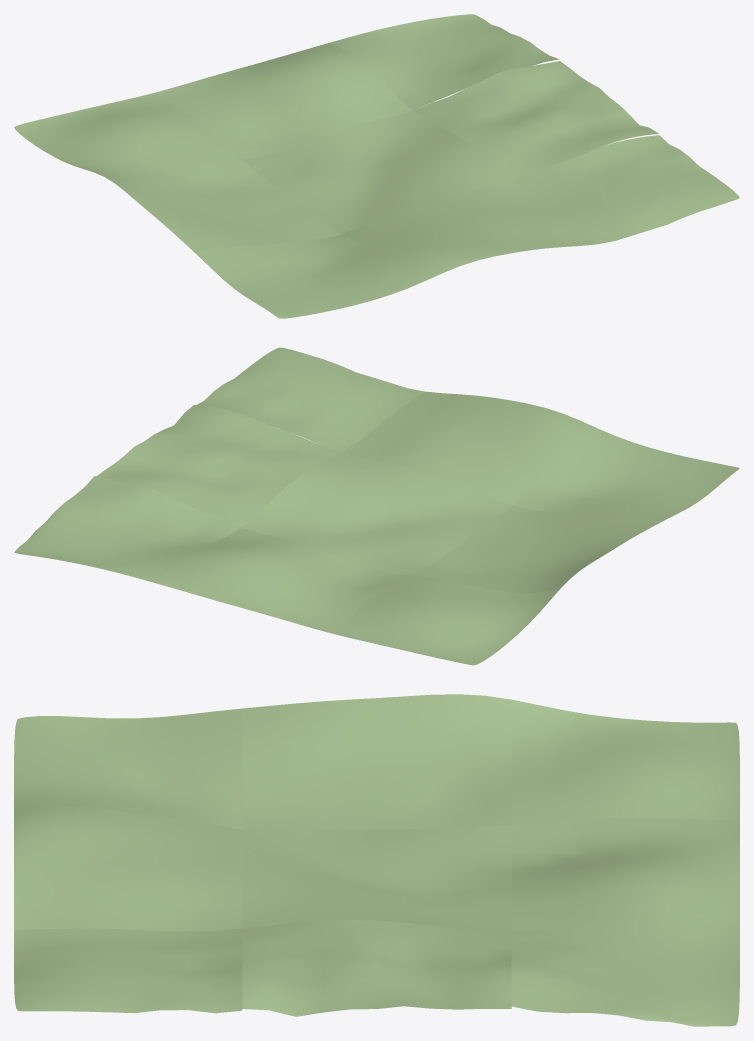
The model's file is TerrainV2.fbx.
3 renders of one model, top to bottom at view 1: azimuth 30°, elevation 25°; view 2: azimuth 150°, elevation 25°; view 3: azimuth 270°, elevation 25°, orthographic. The views are drawn at different scales.
Visible parts, largest first — view 1: polySurface11, polySurface12, polySurface8, polySurface7, polySurface9, polySurface16, polySurface15, polySurface14, polySurface6; view 2: polySurface11, polySurface9, polySurface8, polySurface12, polySurface6, polySurface15, polySurface7, polySurface14, polySurface16; view 3: polySurface16, polySurface9, polySurface11, polySurface14, polySurface12, polySurface8, polySurface15, polySurface6, polySurface7.
Boxes of the visible parts, x1,y1,x2,y2 form: polySurface11: (241,110,512,234); polySurface12: (156,43,412,158); polySurface8: (413,61,658,181); polySurface7: (513,135,739,244); polySurface9: (341,181,596,280); polySurface16: (95,158,339,251); polySurface15: (194,235,424,318); polySurface14: (14,92,240,175); polySurface6: (329,14,559,110); polySurface11: (241,452,512,575); polySurface9: (341,391,596,505); polySurface8: (96,405,339,527); polySurface12: (156,527,412,632); polySurface6: (14,476,240,583); polySurface15: (513,428,739,522); polySurface7: (197,347,424,452); polySurface14: (329,575,559,665); polySurface16: (414,505,658,592); polySurface16: (242,694,511,829); polySurface9: (14,806,242,931); polySurface11: (242,825,511,931); polySurface14: (511,699,739,825); polySurface12: (511,817,739,931); polySurface8: (242,920,511,1016); polySurface15: (14,708,242,829); polySurface6: (511,915,739,1026); polySurface7: (14,928,242,1013).
Bounding box in the file's own units: 4492 × 266 × 4492.
